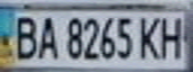2: (81, 14, 100, 61)
5: (115, 14, 139, 61)
6: (96, 14, 121, 61)
8: (60, 14, 84, 61)
A: (33, 12, 60, 61)
B: (9, 12, 42, 61)
H: (157, 12, 190, 60)
K: (136, 14, 163, 61)
